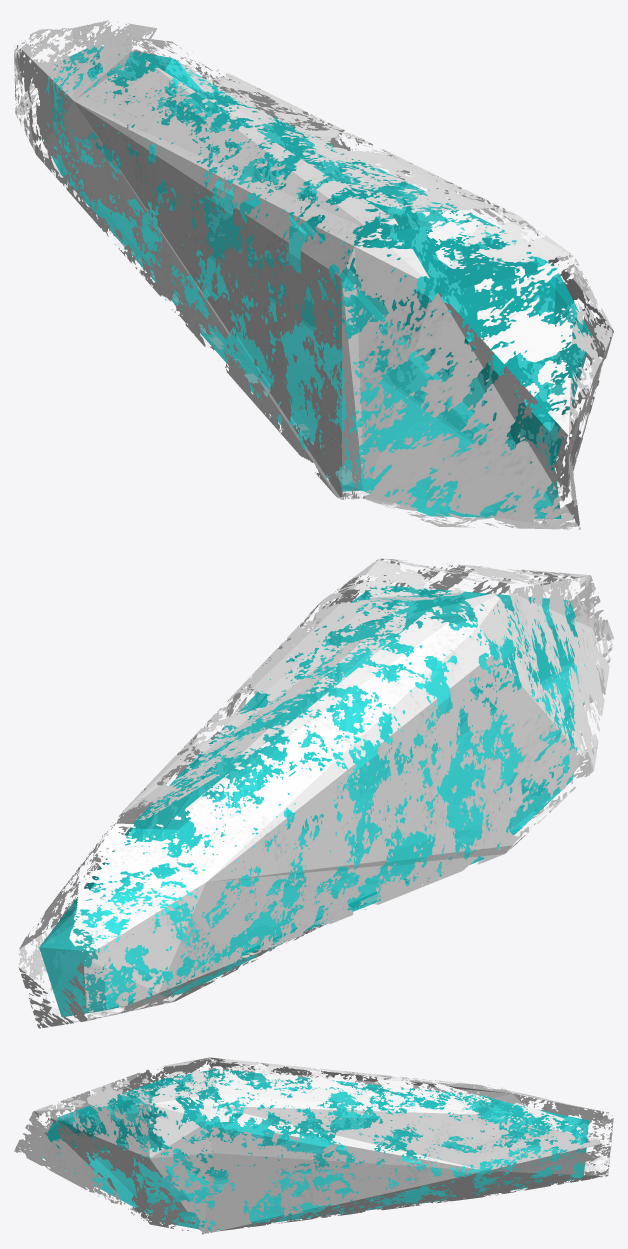
Rendered from IceSpike2.fbx.
3 views of the same model, one above another, from view 1: azimuth 30°, elevation 25°; view 2: azimuth 150°, elevation 25°; view 3: azimuth 270°, elevation 25° (orthographic). The views are drawn at different scales.
Visible parts, largest first — view 1: polySurface1; view 2: polySurface1; view 3: polySurface1.
Boxes of the visible parts, box(x1,y1,x2,y2) form: polySurface1: box(14, 20, 613, 529); polySurface1: box(18, 558, 613, 1028); polySurface1: box(14, 1057, 613, 1234).
Size of the model in its own units: 27 by 26.81 by 102.
2 materials, 1 textured.
